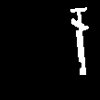double_crochet: (71, 7, 88, 74)
